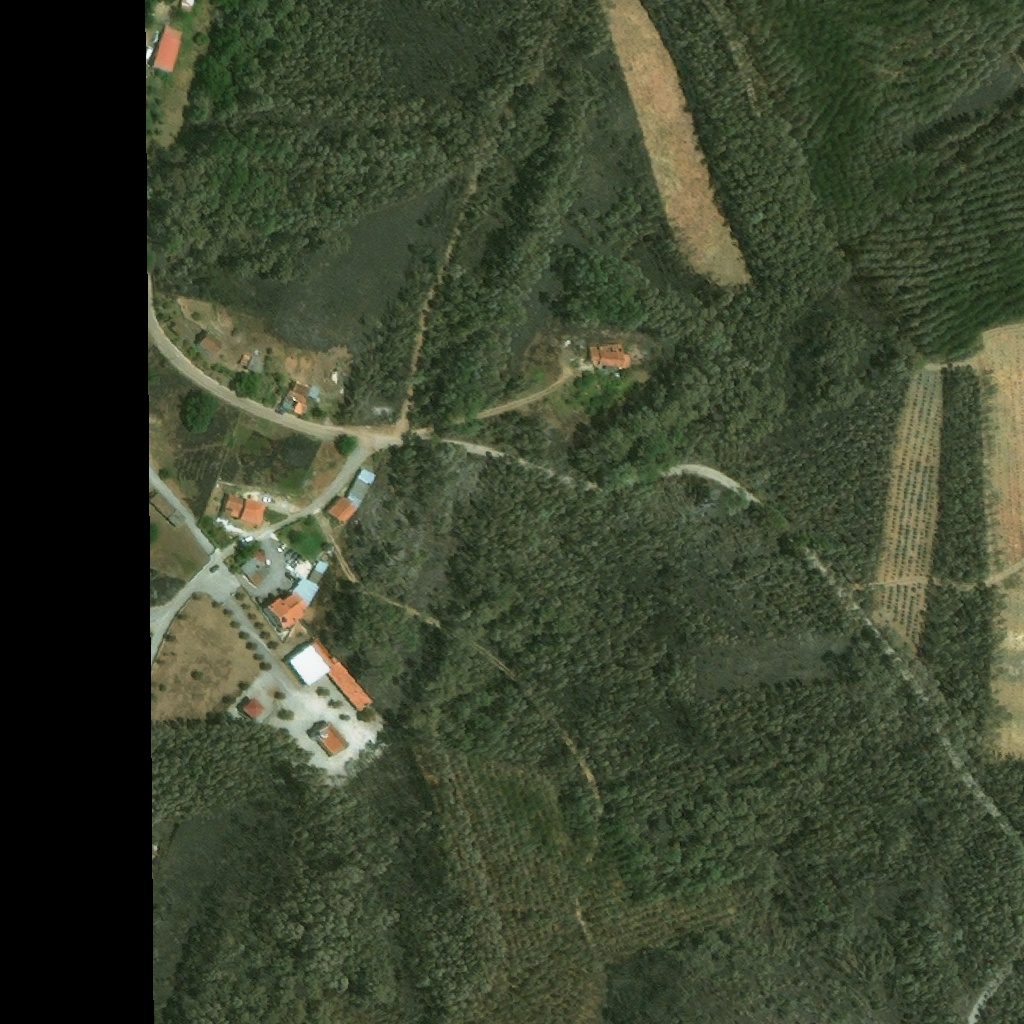4 un-classified: (284, 637, 372, 712), (264, 561, 328, 631), (323, 468, 375, 526), (309, 721, 349, 759), (151, 26, 182, 74), (236, 549, 270, 588), (283, 381, 319, 417), (218, 493, 259, 522), (587, 343, 630, 367), (197, 331, 222, 355), (241, 697, 266, 721), (237, 354, 264, 375), (166, 317, 187, 337), (216, 516, 236, 531), (180, 0, 194, 12), (631, 348, 643, 359), (319, 553, 329, 565)
